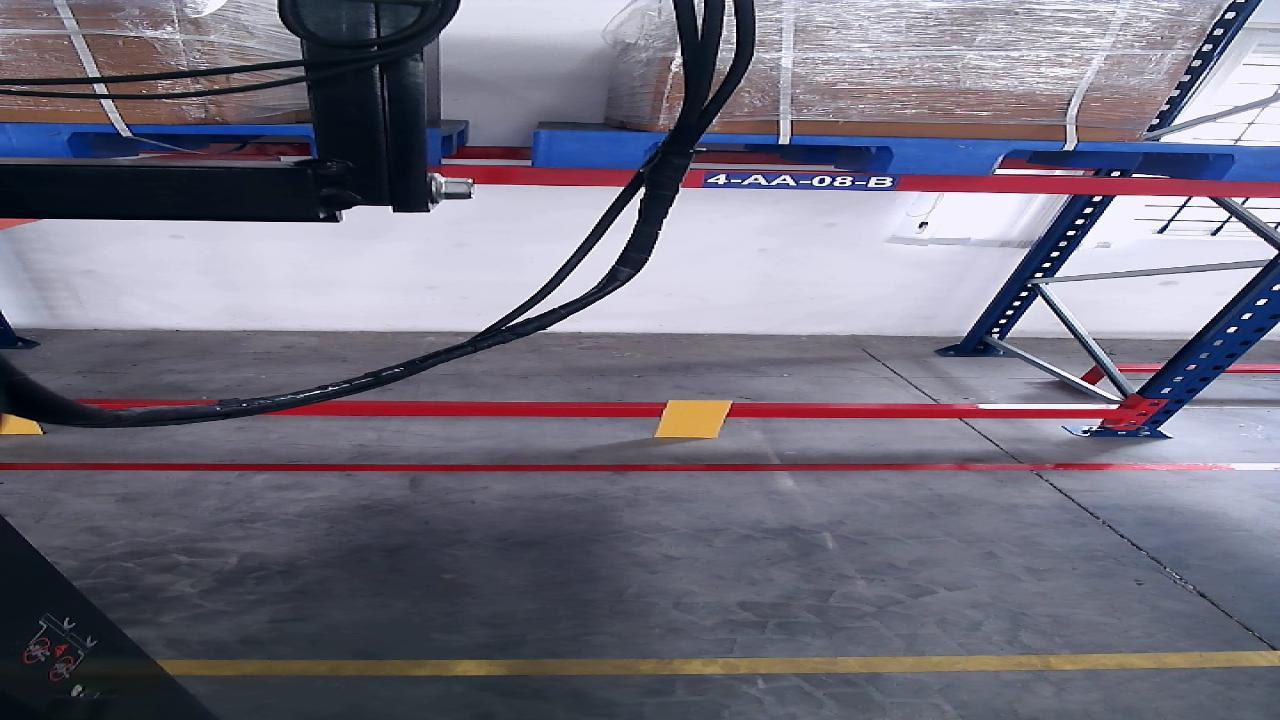h_rack: (458, 166, 1277, 197), (266, 408, 1122, 419)
orange_strip: (653, 401, 731, 437)
red_line: (0, 464, 1277, 470)
small_pallet: (531, 131, 1280, 182), (2, 123, 434, 165)
yellow_line: (160, 650, 1278, 675)
